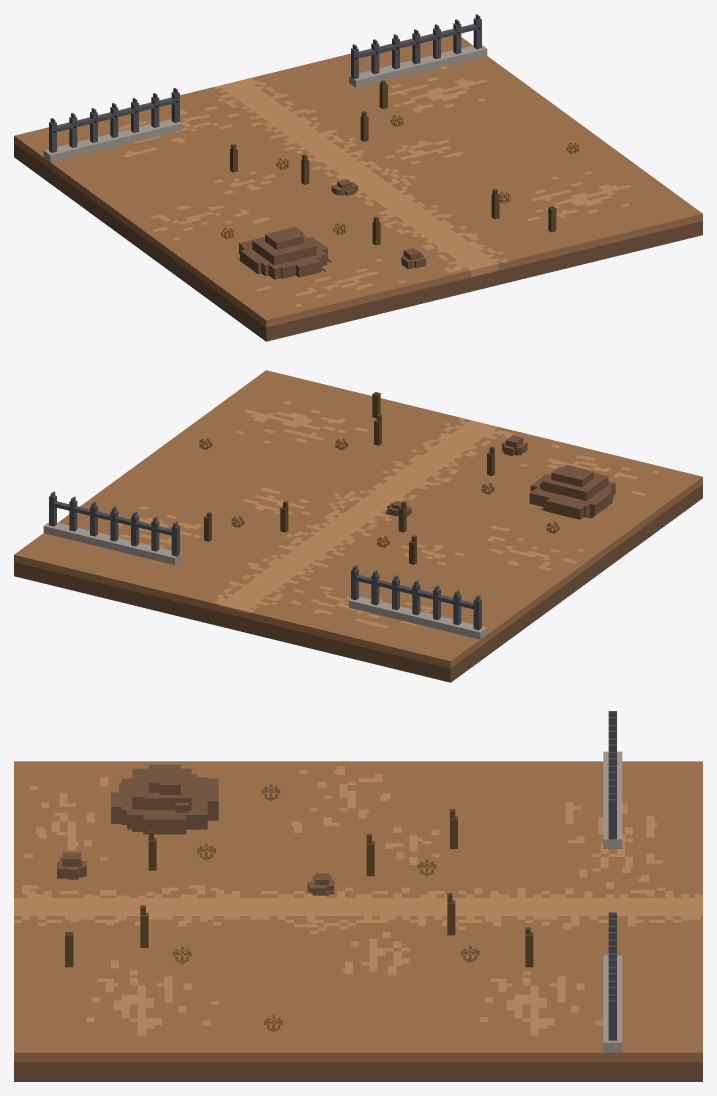
The model's file is background_gate_oneRoad.glb.
3 views of the same model, one above another, from view 1: azimuth 30°, elevation 25°; view 2: azimuth 150°, elevation 25°; view 3: azimuth 270°, elevation 25° (orthographic). The views are drawn at different scales.
Parts seen in each view (by area): view 1: Node; view 2: Node; view 3: Node.
Part boxes in pixels (x1,y1,x2,y2): Node: [14, 14, 702, 341]; Node: [14, 370, 702, 682]; Node: [14, 711, 702, 1081].
Bounding box in the file's own units: 25.6 × 3.4 × 25.6.
Materials: 1 (1 with a texture image).
